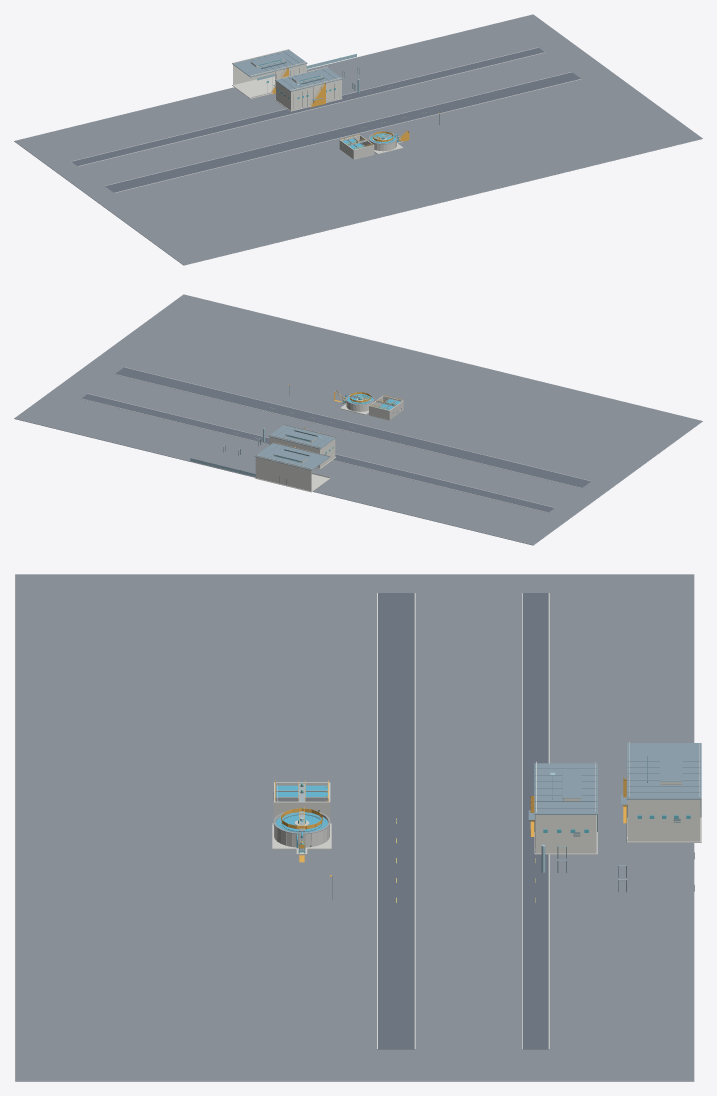
3 renders of one model, top to bottom at view 1: azimuth 30°, elevation 25°; view 2: azimuth 150°, elevation 25°; view 3: azimuth 270°, elevation 25°, orthographic. The views are drawn at different scales.
Parts seen in each view (by area): view 1: render-batch-9, render-batch-6, render-batch-18, render-batch-10, render-batch-15, render-batch-19; view 2: render-batch-9, render-batch-6, render-batch-18, render-batch-10, render-batch-15; view 3: render-batch-9, render-batch-6, render-batch-18, render-batch-10, render-batch-15, render-batch-3, render-batch-19.
Part boxes in pixels (x1,y1,x2,y2): render-batch-9: [14, 14, 702, 265]; render-batch-6: [72, 47, 580, 192]; render-batch-18: [71, 47, 581, 193]; render-batch-10: [232, 50, 342, 100]; render-batch-15: [232, 67, 403, 159]; render-batch-19: [271, 67, 440, 149]; render-batch-9: [14, 294, 702, 545]; render-batch-6: [82, 367, 590, 512]; render-batch-18: [81, 367, 591, 512]; render-batch-10: [254, 425, 336, 470]; render-batch-15: [255, 394, 403, 492]; render-batch-9: [15, 574, 694, 1081]; render-batch-6: [378, 593, 548, 1049]; render-batch-18: [377, 593, 700, 1049]; render-batch-10: [528, 743, 701, 820]; render-batch-15: [272, 782, 701, 855]; render-batch-3: [276, 785, 327, 848]; render-batch-19: [275, 776, 627, 876].
Size of the model in its own units: 318 by 14.7 by 182.
